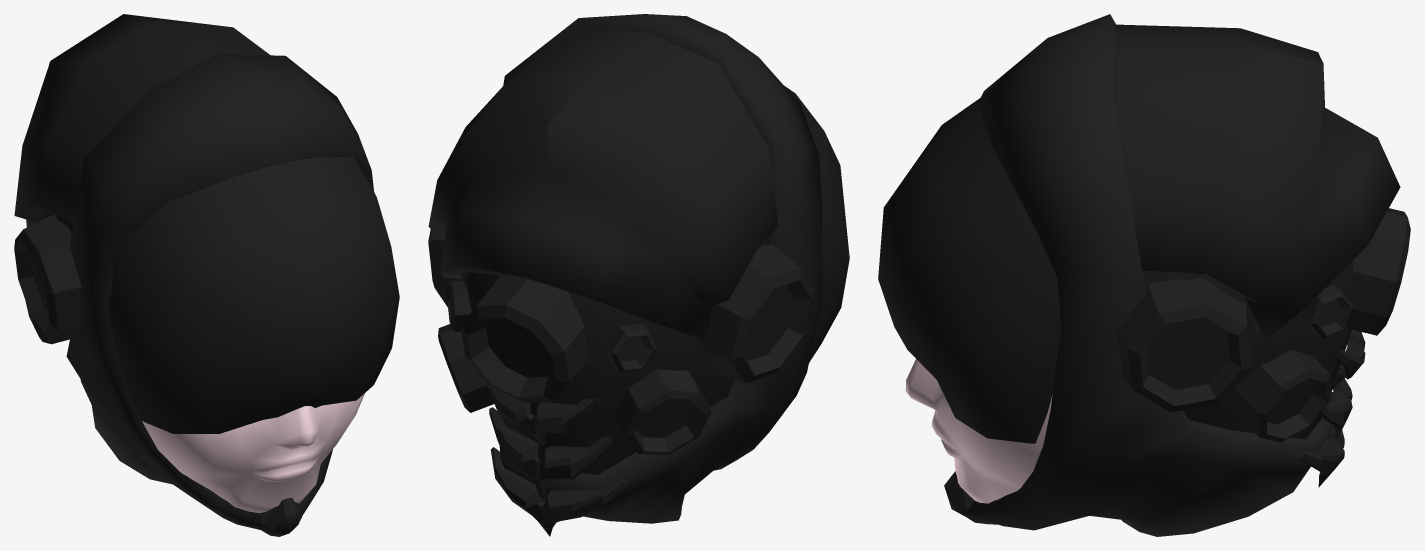
The model's file is Head.fbx.
The picture shows the model from 3 angles, left to right: view 1: azimuth 30°, elevation 25°; view 2: azimuth 150°, elevation 25°; view 3: azimuth 270°, elevation 25°; orthographic projection. The views are drawn at different scales.
Parts seen in each view (by area): view 1: Plane.016, Plane.017, Plane.015, Plane.018, Cylinder.001; view 2: Plane.015, Cylinder.001, Plane.017, Plane.010, Plane.016; view 3: Plane.017, Plane.015, Plane.016, Cylinder.001, Plane.018, Plane.010.
Boxes of the visible parts, <box> form: Plane.016: <box>108,156,399,433</box>; Plane.017: <box>66,53,373,536</box>; Plane.015: <box>14,14,270,227</box>; Plane.018: <box>142,393,364,513</box>; Cylinder.001: <box>14,214,83,344</box>; Plane.015: <box>428,30,778,340</box>; Cylinder.001: <box>428,229,815,536</box>; Plane.017: <box>499,14,823,523</box>; Plane.010: <box>461,142,767,474</box>; Plane.016: <box>784,86,849,362</box>; Plane.017: <box>944,14,1334,536</box>; Plane.015: <box>1116,24,1400,338</box>; Plane.016: <box>878,98,1060,443</box>; Cylinder.001: <box>1117,208,1410,487</box>; Plane.018: <box>905,359,1052,503</box>; Plane.010: <box>1129,183,1353,439</box>.
Bounding box in the file's own units: 18.28 × 24.28 × 23.5.
